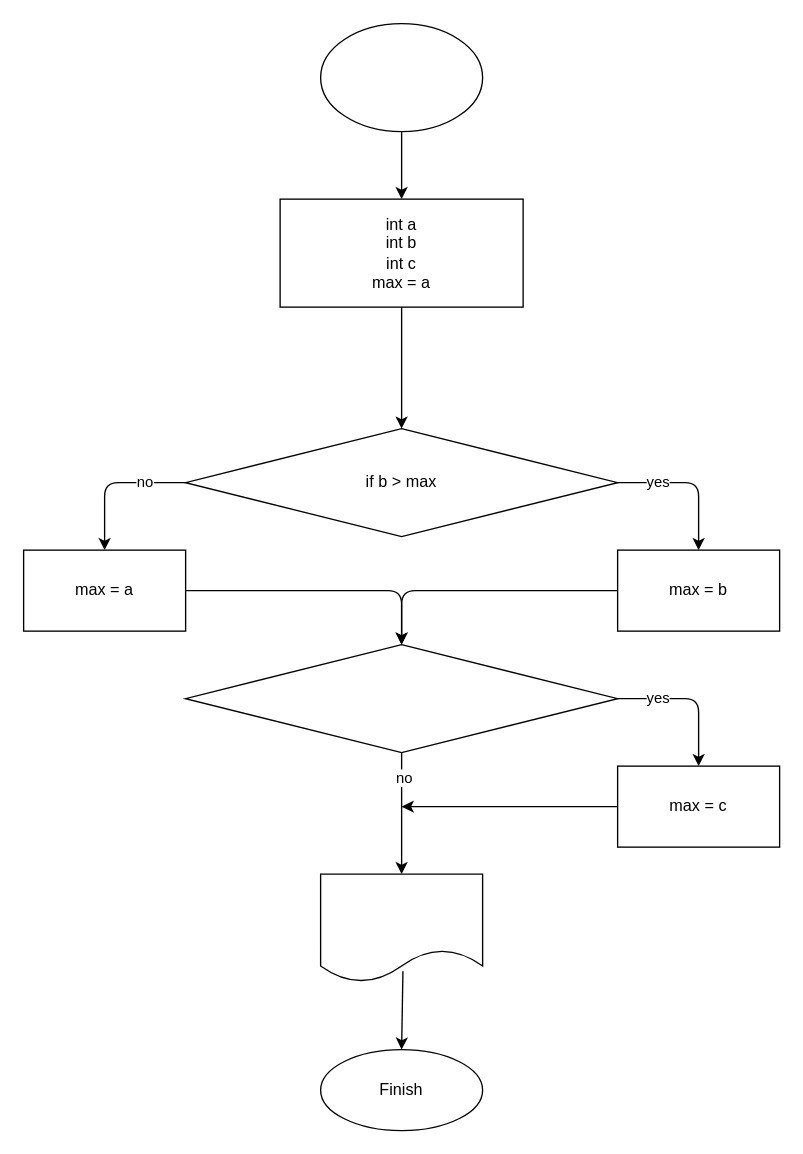
Image size: 803x1154. Some labels were removed from this diagram. The centre of each missing label's shape, as x and y in pixels:
if c > max: point 401,698
print a, b, c print max: point 401,927
START: point 401,77
